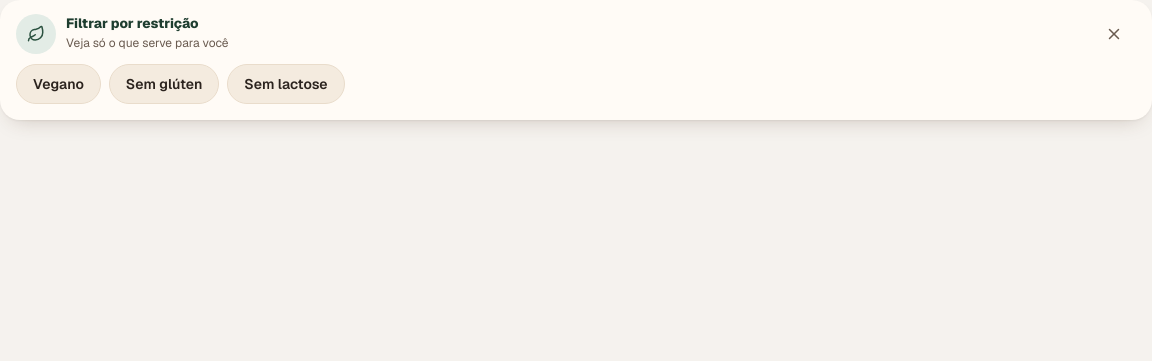
Test: filtrar › 'Sem glúten' mostra quem declarou sem glúten
Click the button "Sem glúten": [164, 84] box x1=109 y1=64 x2=219 y2=104
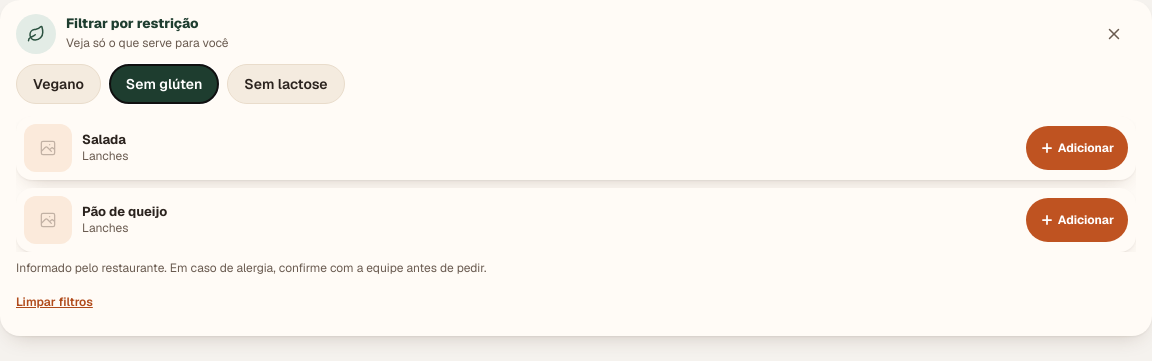
Check: the text "Salada" is shown, box x1=82 y1=131 x2=126 y2=148
Check: the text "Pão de queijo" is shown, box x1=82 y1=203 x2=167 y2=220
